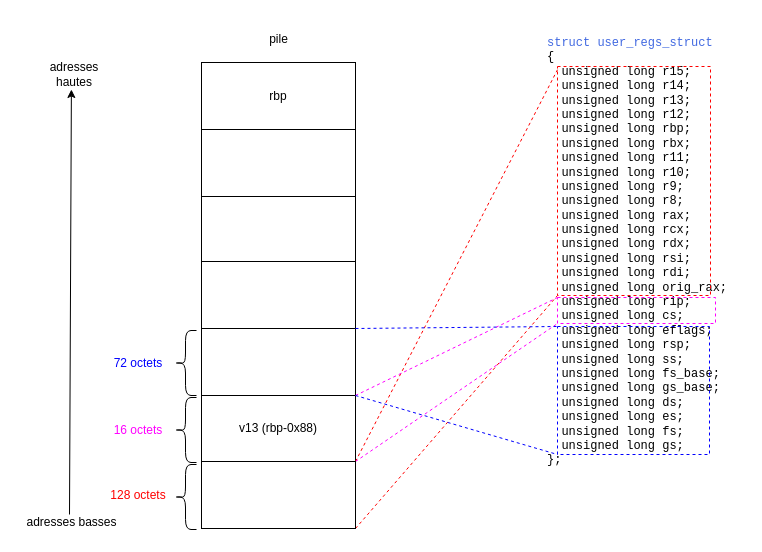
This 762x552 diagram has some shape labels left out. Each missing label, with the centre of its shape:
"regs (rbp-0x108)" goes at point (278, 494).
"v14 (rbp-0x78)" goes at point (278, 362).
